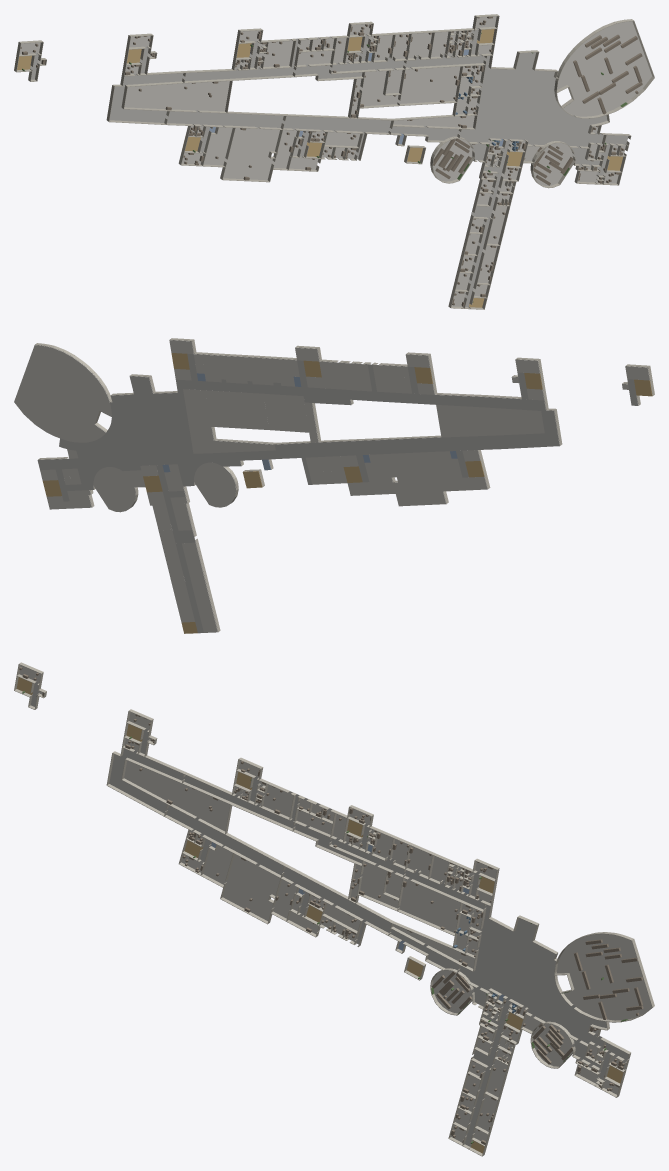
Rendered from floor-0-658967f6628a.glb.
3 views of the same model, one above another, from view 1: azimuth 30°, elevation 25°; view 2: azimuth 150°, elevation 25°; view 3: azimuth 330°, elevation 25° (orthographic).
Visible parts, largest first — view 1: osm-way27917482-F-1; view 2: osm-way27917482-F-1; view 3: osm-way27917482-F-1.
Part boxes in pixels (x1,y1,x2,y2): osm-way27917482-F-1: (14, 14, 654, 309); osm-way27917482-F-1: (14, 338, 654, 633); osm-way27917482-F-1: (14, 662, 654, 1156).
Size of the model in its own units: 197 by 112 by 1.35.
